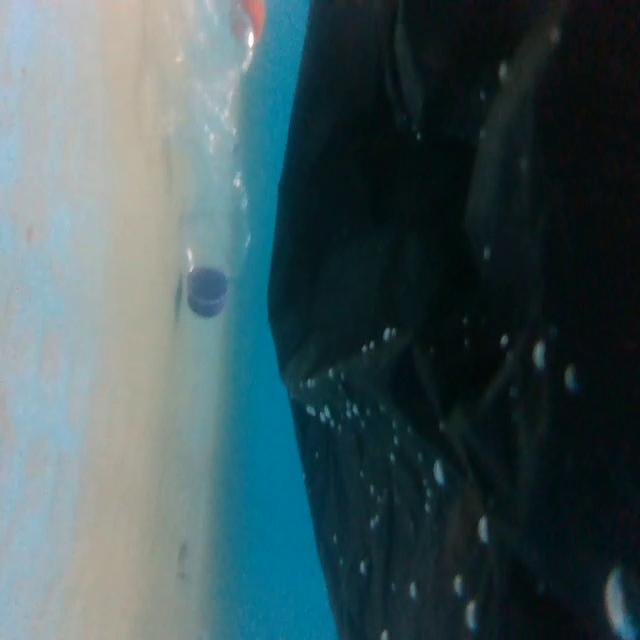plastic bags: (278, 0, 640, 631)
plastic bottle: (146, 0, 263, 315)
